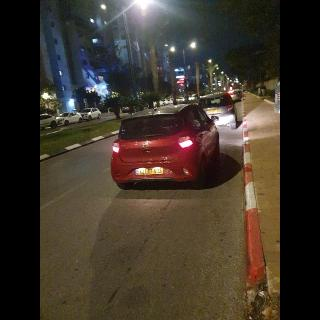LicensePlate: (138, 168, 164, 174)
